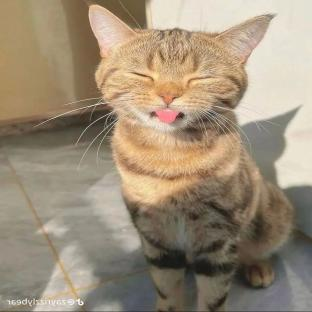Animal: (89, 4, 294, 312)
